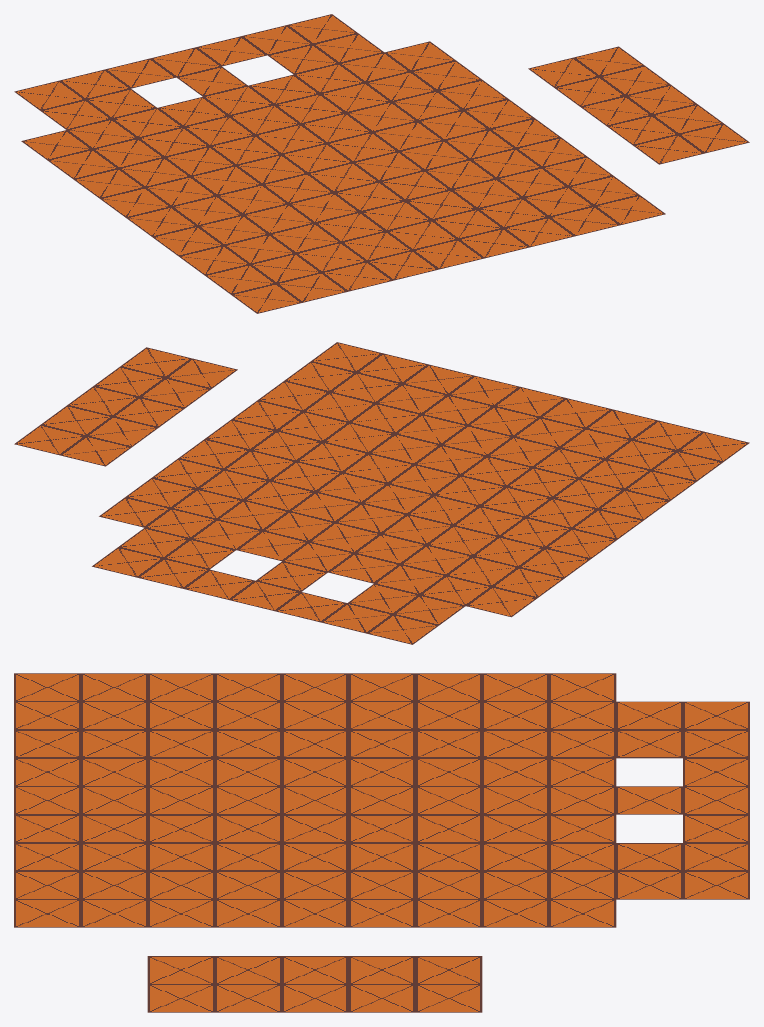
Rendered from dev_level.glb.
3 renders of one model, top to bottom at view 1: azimuth 30°, elevation 25°; view 2: azimuth 150°, elevation 25°; view 3: azimuth 270°, elevation 25°, orthographic. The views are drawn at different scales.
Visible parts, largest first — view 1: Plane; view 2: Plane; view 3: Plane.
Boxes of the visible parts, box(x1,y1,x2,y2) form: Plane: box(14, 14, 749, 313); Plane: box(14, 342, 749, 644); Plane: box(14, 673, 749, 1012).
Size of the model in its own units: 24 by 0 by 22.
1 material, 1 textured.
